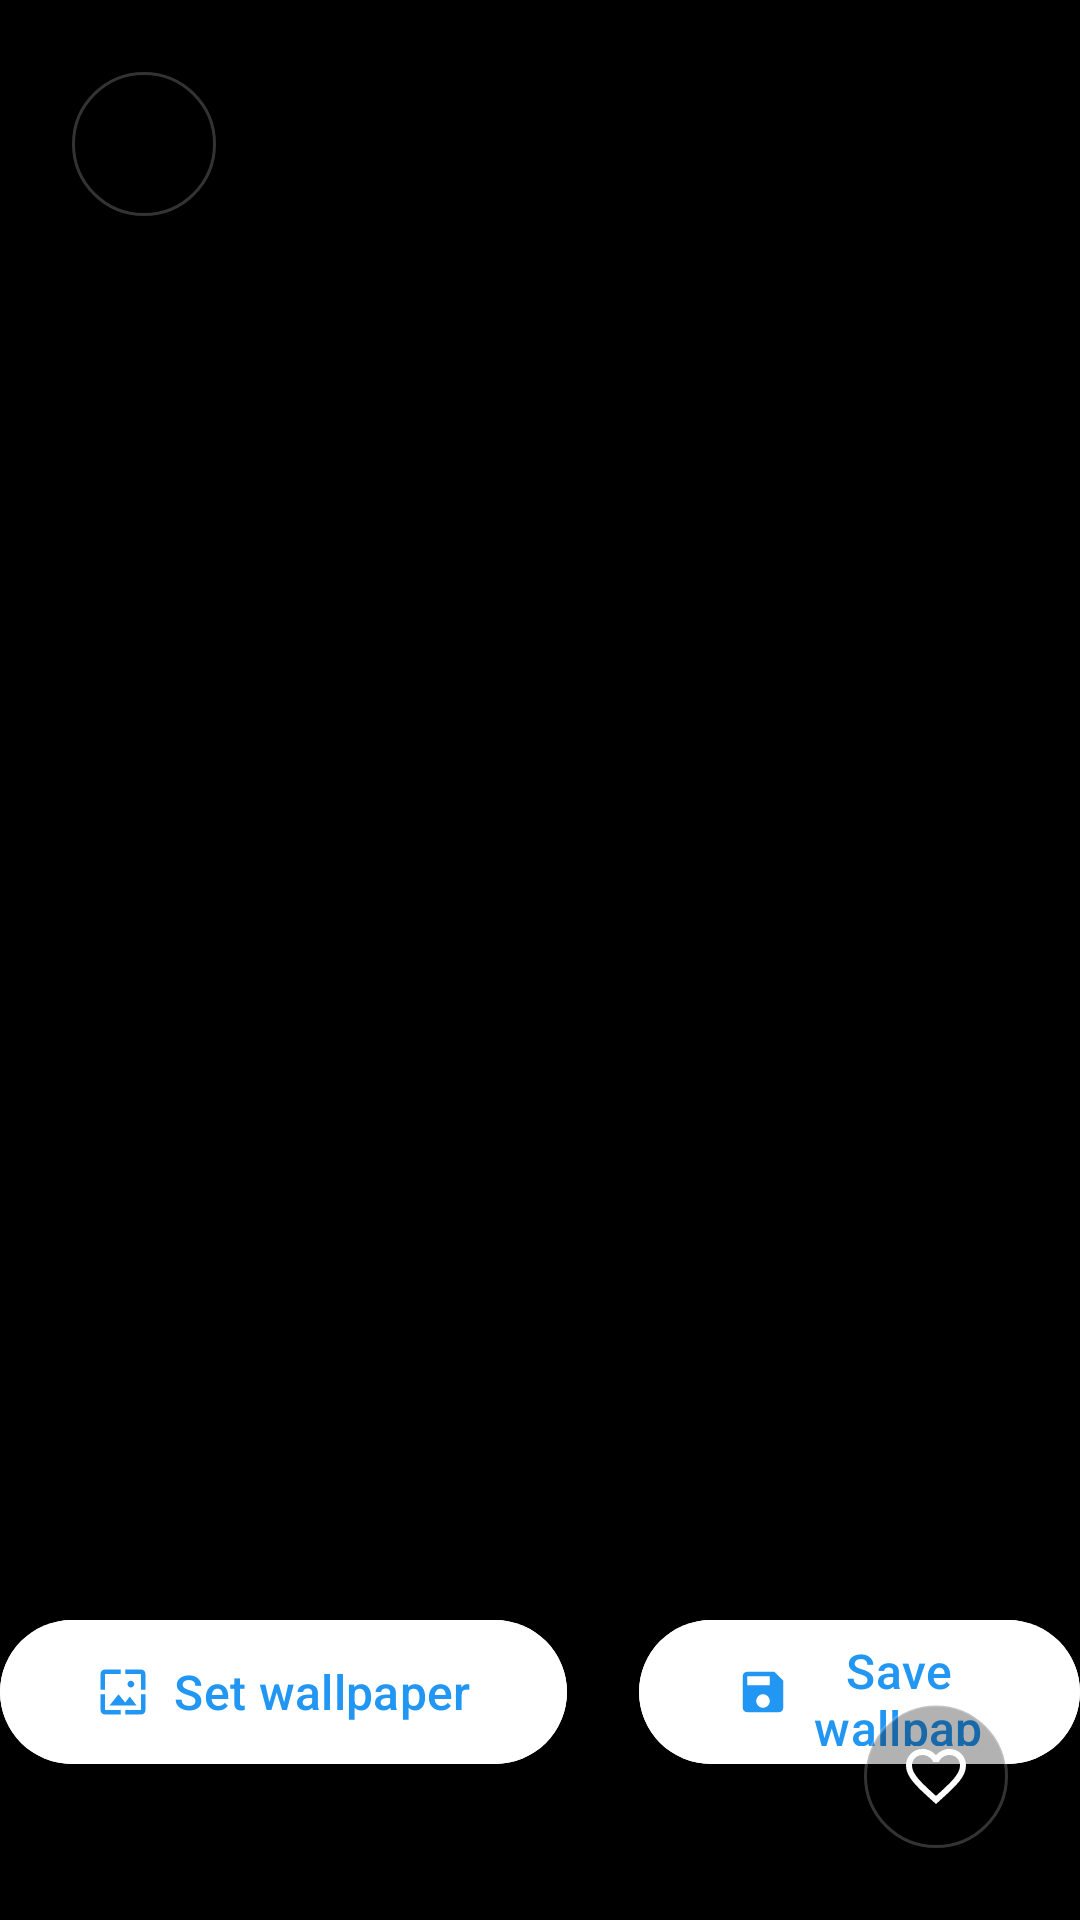

Icon click points for this 1080px x 1920px phone screenshot, format point (x, y):
Favorite: point (936, 1776)
